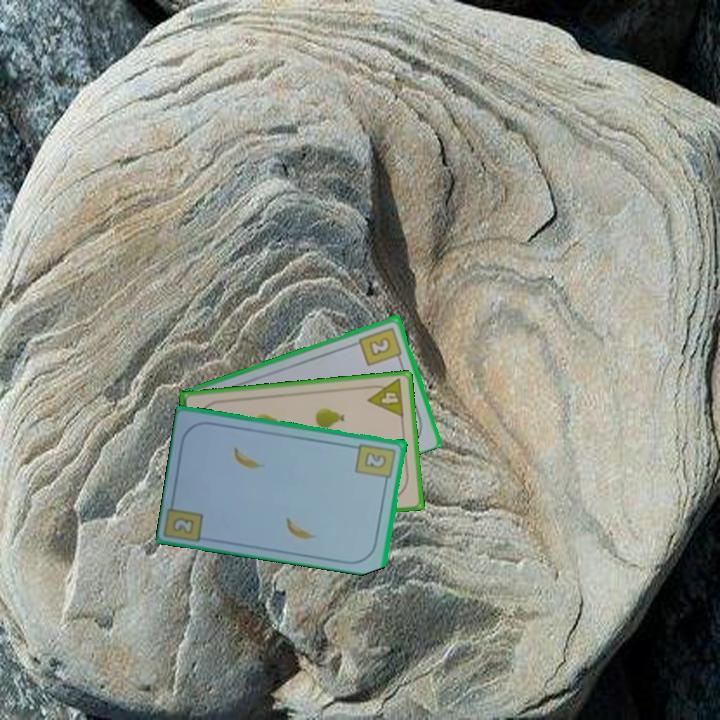2b: (356, 323, 405, 368), (353, 440, 399, 486), (169, 514, 197, 537)
4p: (363, 376, 407, 420)
